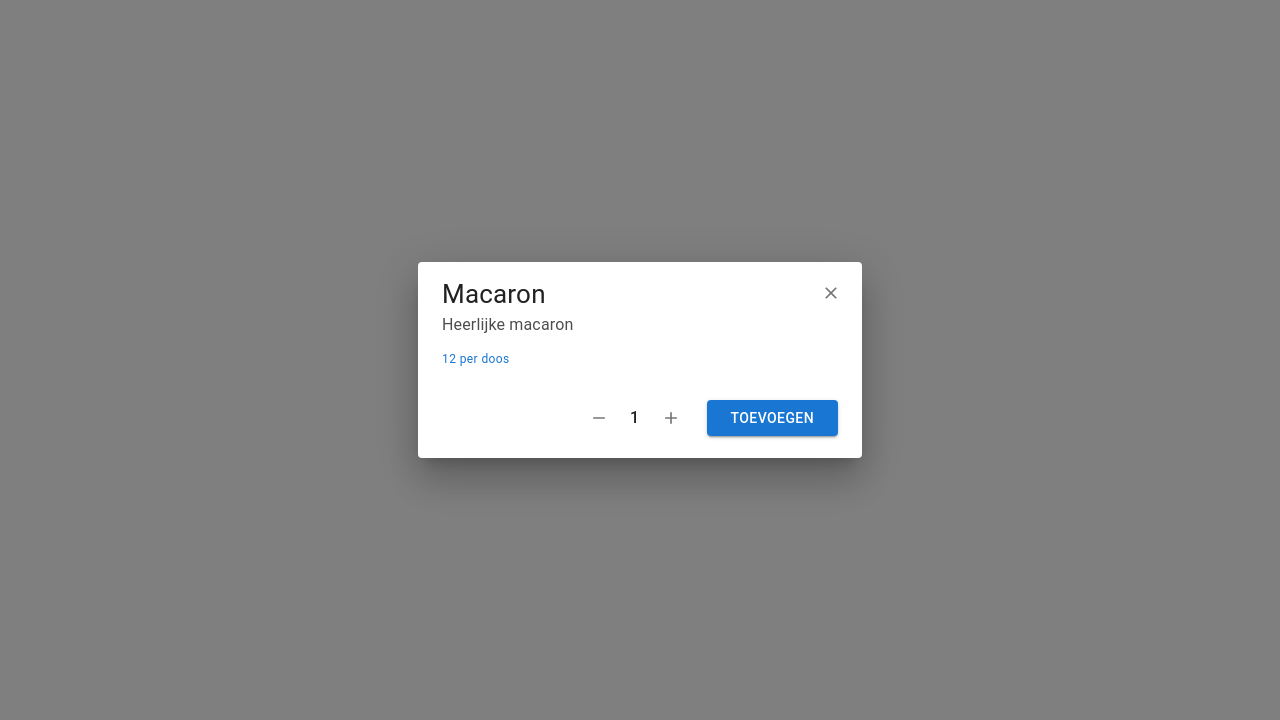
ProductModal › increments quantity
Click the button named "Meer": (670, 418) 650,398 -> 690,438
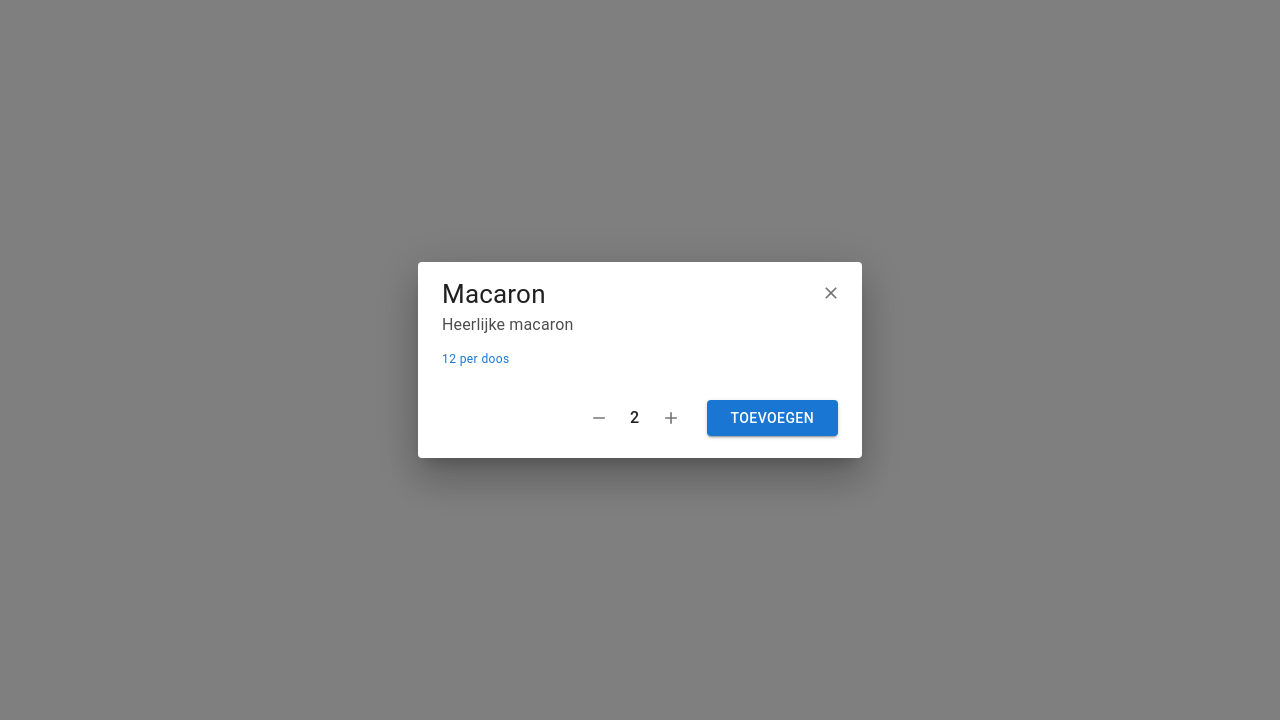
Expected: the text "2" is shown, 630,408 -> 639,427
